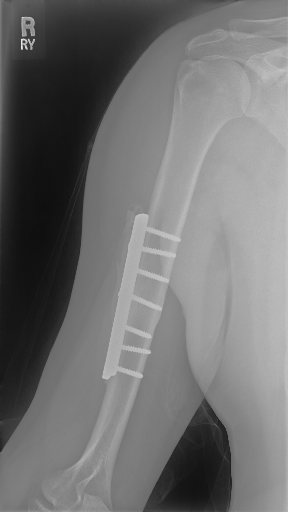implant: (100, 204, 182, 396)
